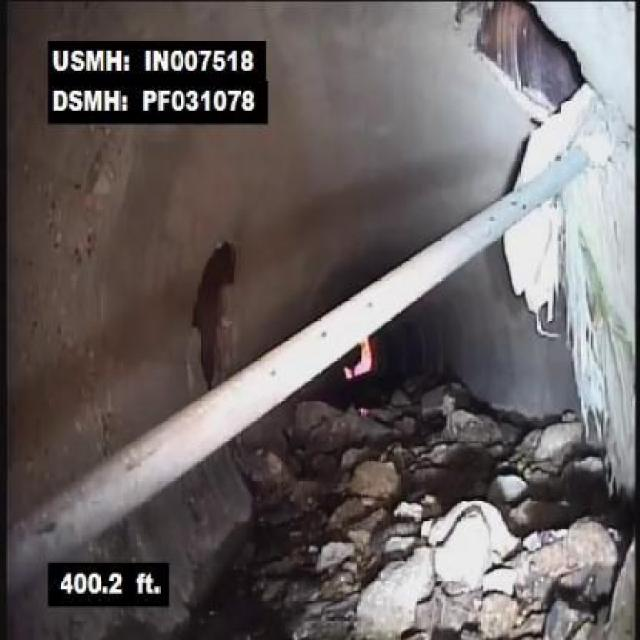Obstacle: (257, 489, 638, 638)
Utility intrusion: (15, 127, 588, 558)
